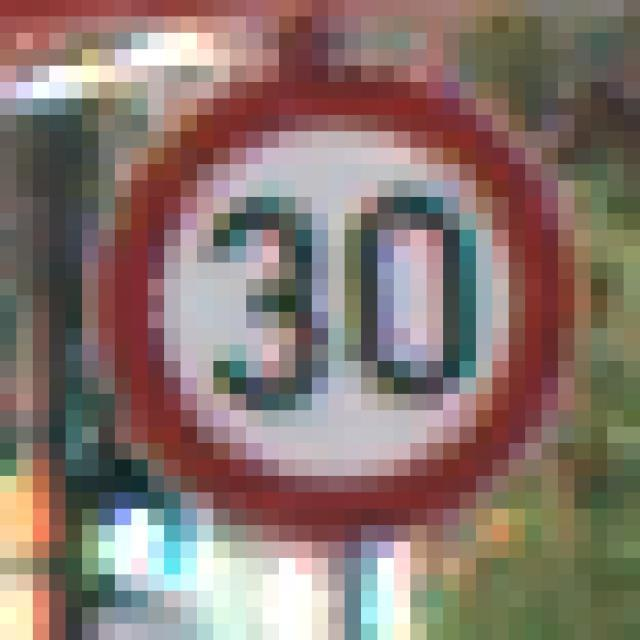Speed Limit -30-: (74, 74, 534, 534)
